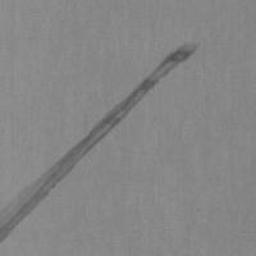Water spot: (0, 42, 198, 246)
